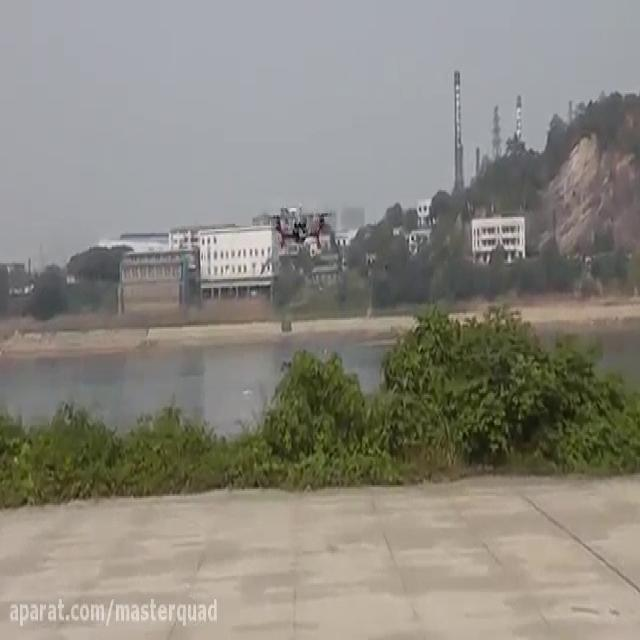drone: (268, 201, 331, 252)
